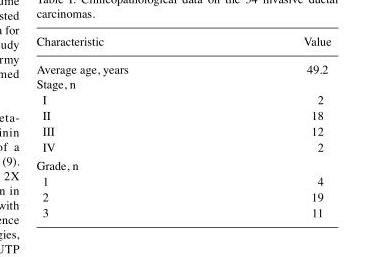table: (35, 35, 330, 219)
table column: (35, 35, 215, 219), (215, 35, 330, 219)
table column header: (35, 35, 330, 55)
table projected row header: (35, 156, 330, 173), (35, 77, 330, 92)
table row: (35, 55, 330, 77), (35, 35, 330, 55), (35, 139, 330, 156), (35, 156, 330, 173), (35, 92, 330, 108), (35, 123, 330, 139), (35, 173, 330, 189), (35, 189, 330, 205), (35, 77, 330, 92), (35, 108, 330, 123), (35, 205, 330, 219)
